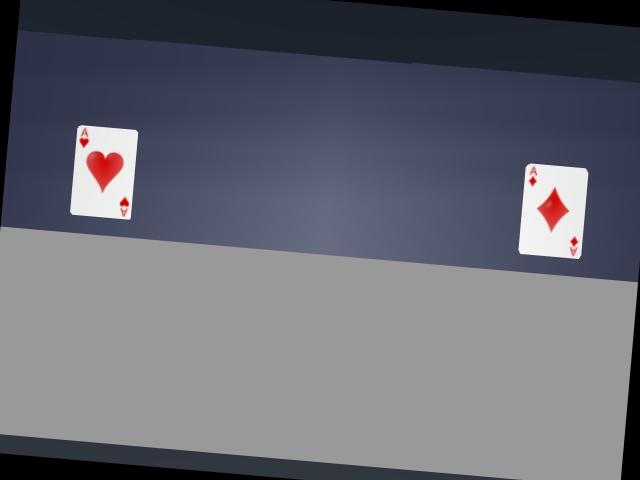diamond: (519, 164, 587, 258)
heart: (70, 125, 137, 219)
